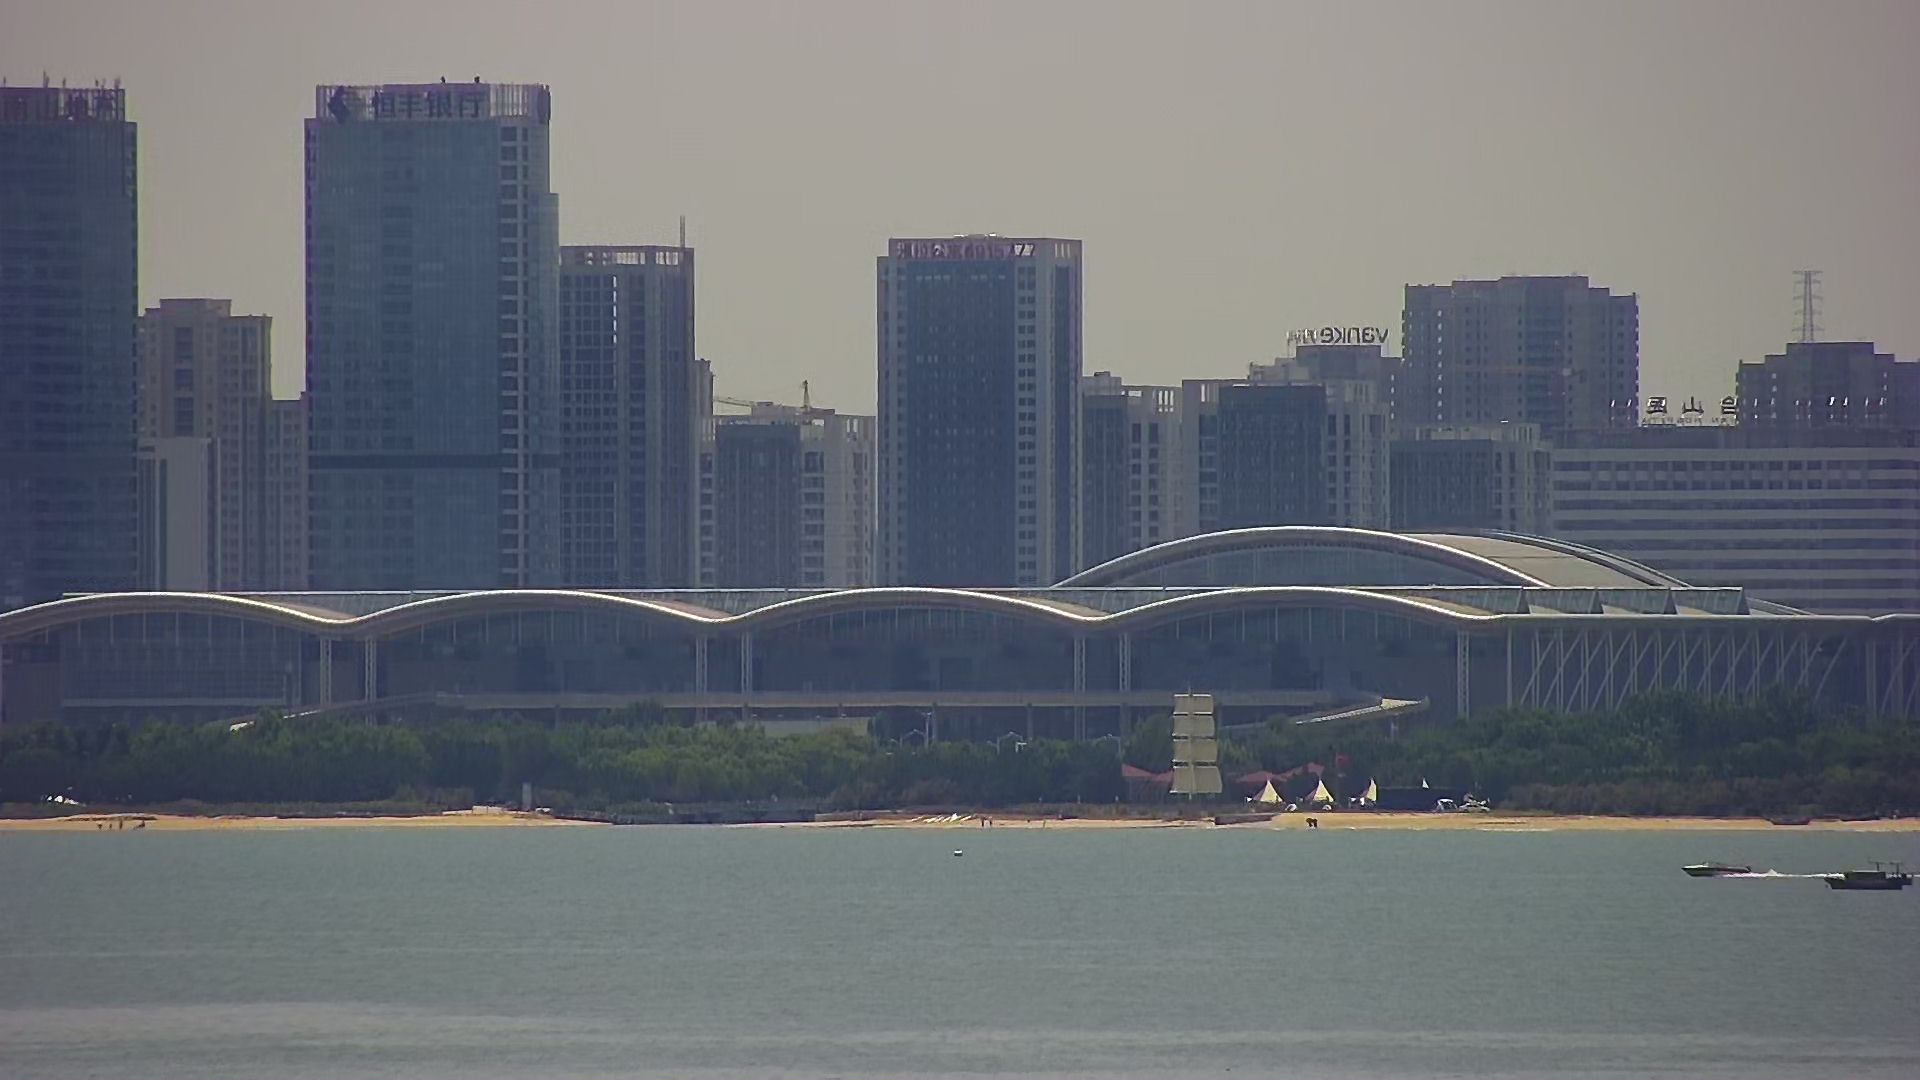boat: (1822, 856, 1917, 895), (1677, 855, 1760, 880)
